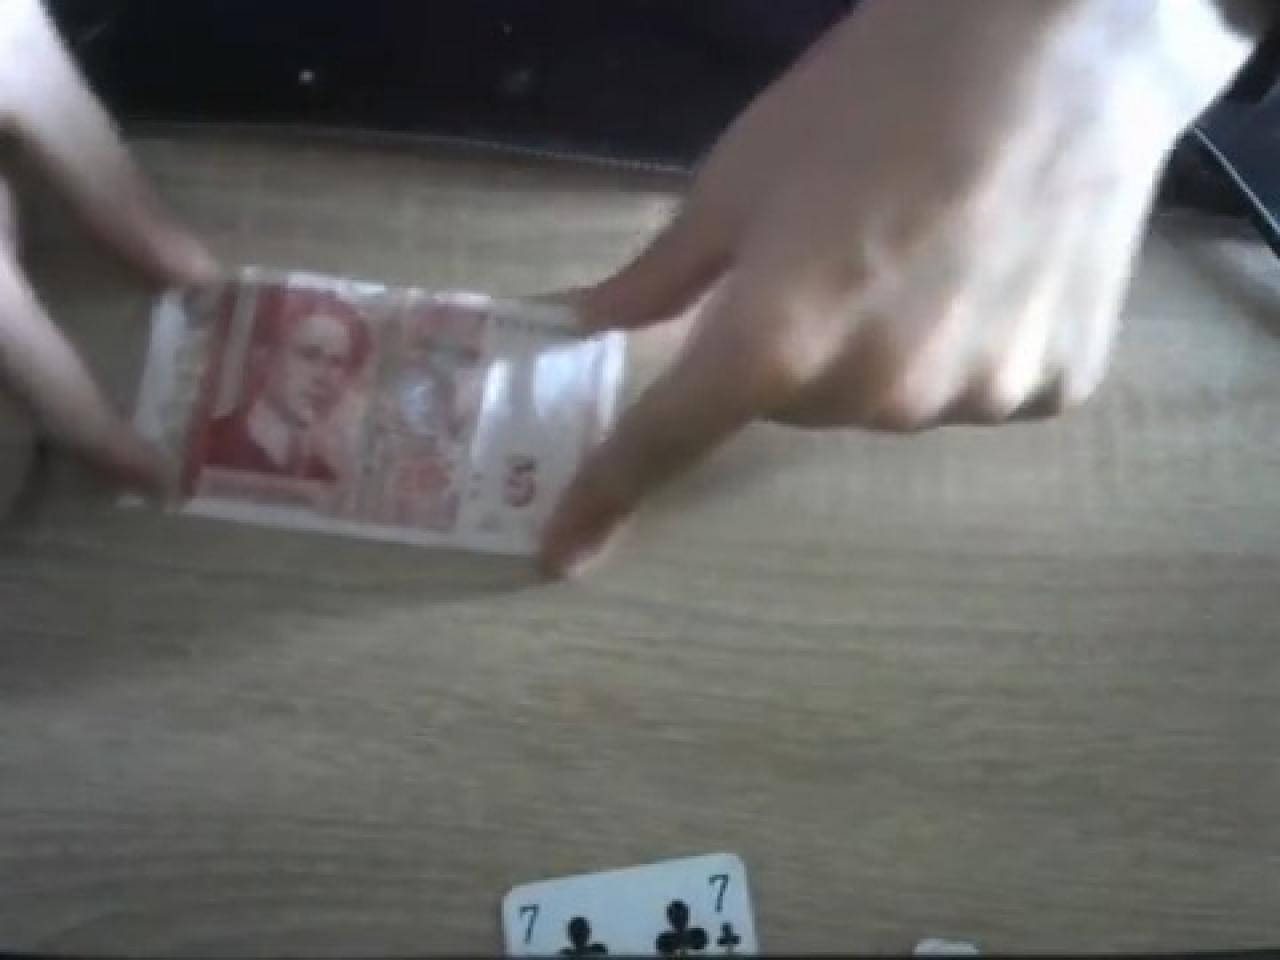5leva: (186, 277, 600, 547)
